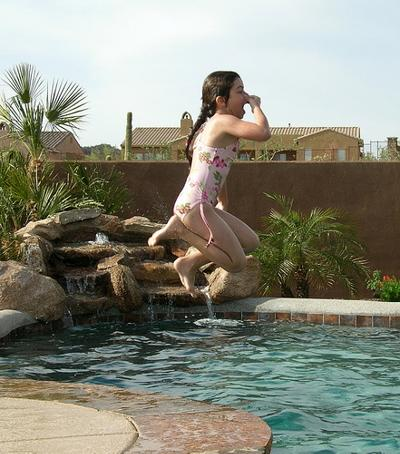person: (155, 69, 271, 298)
